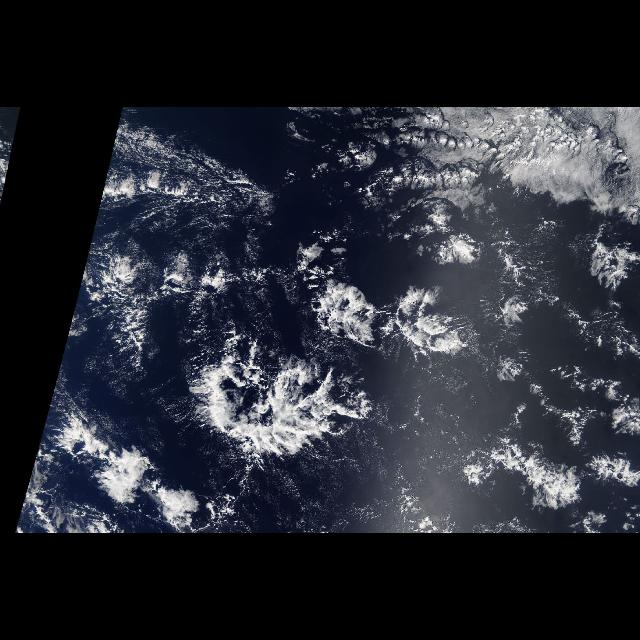Flower: (12, 227, 640, 533)
